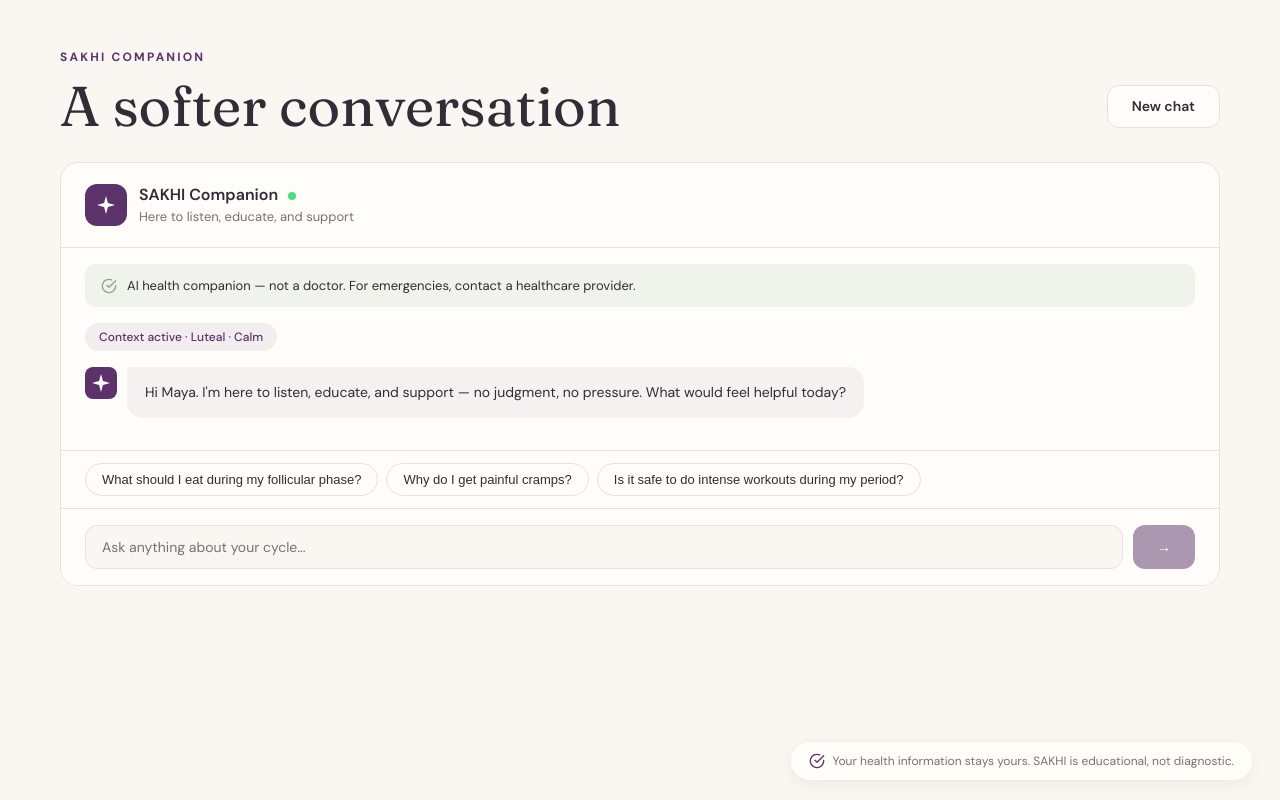
Test: Chatbot feature › sends message and renders bot reply
The image size is (1280, 800).
Type "I have cramps" into the field with placeholder "Ask anything about your cycle..." at [604, 547], box [85,525,1123,569]
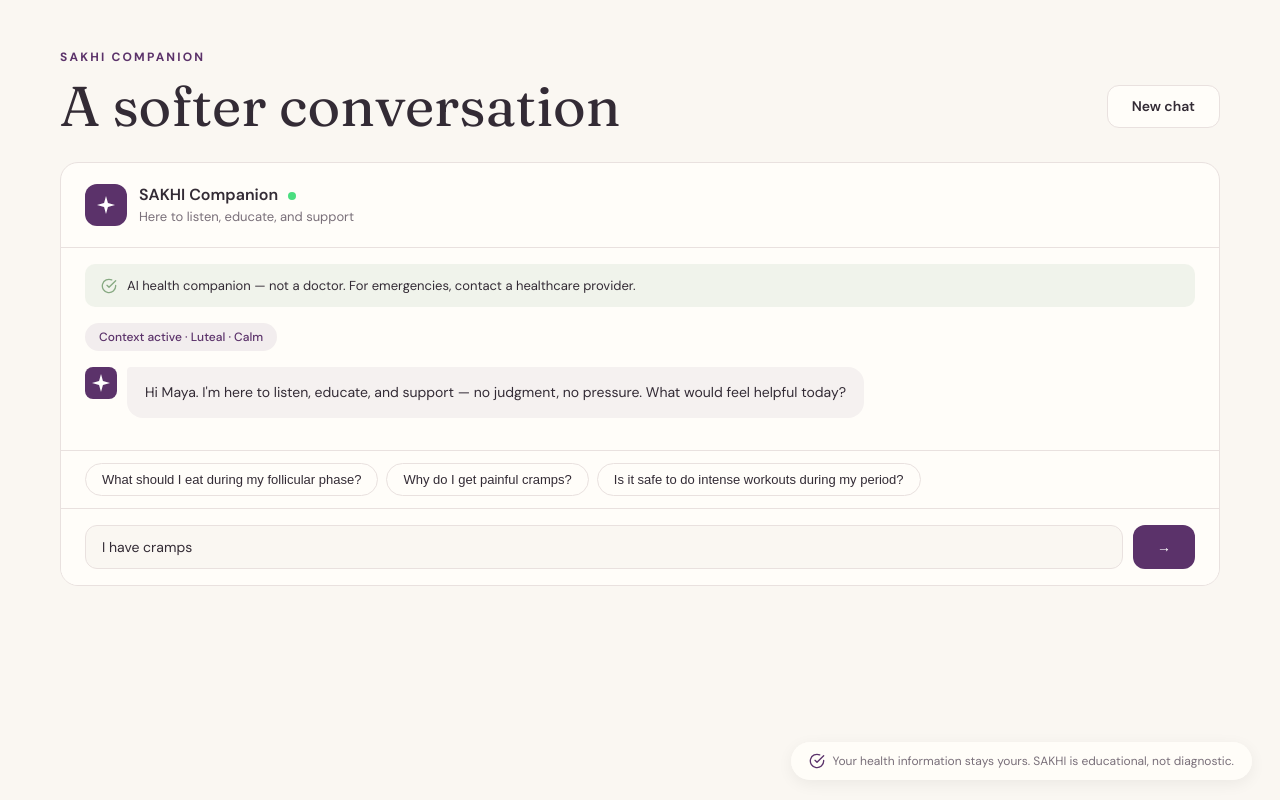
Click the button named "Send" at [1164, 547], box [1133,525,1195,569]
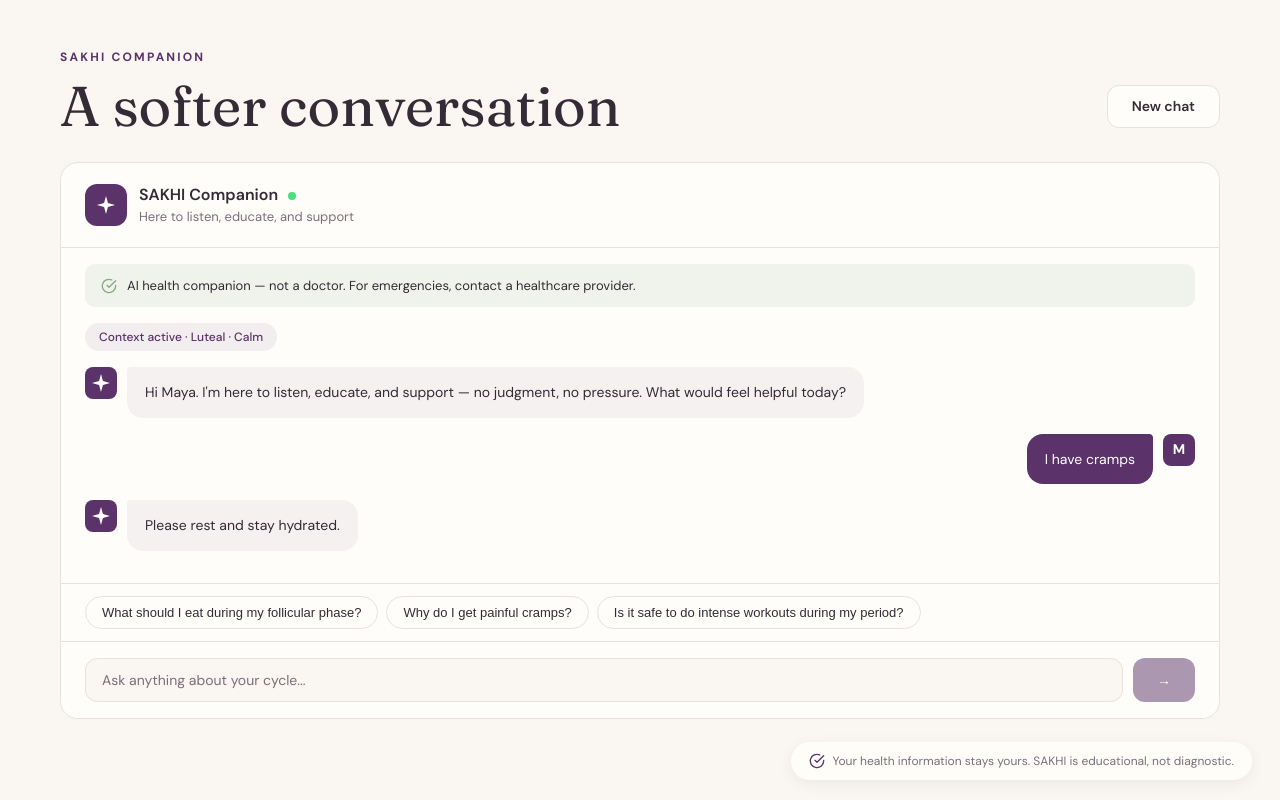
Expected: the text "Please rest and stay hydrated." is shown, [127,500,358,551]
